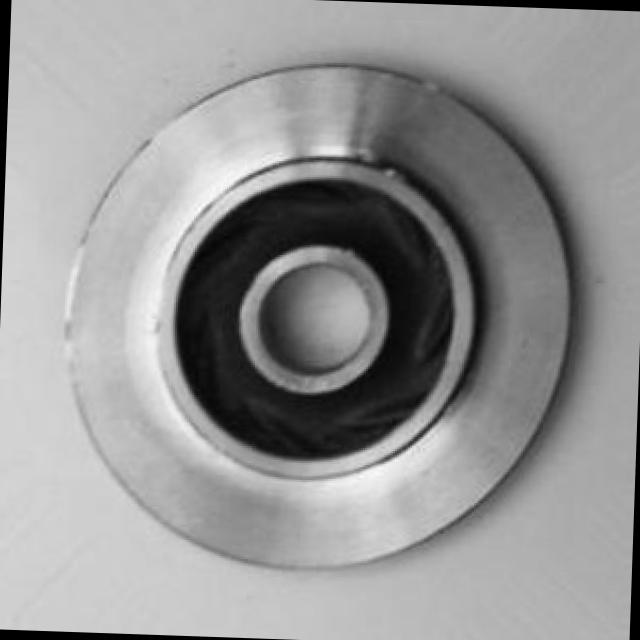Defect: (370, 150, 410, 192)
